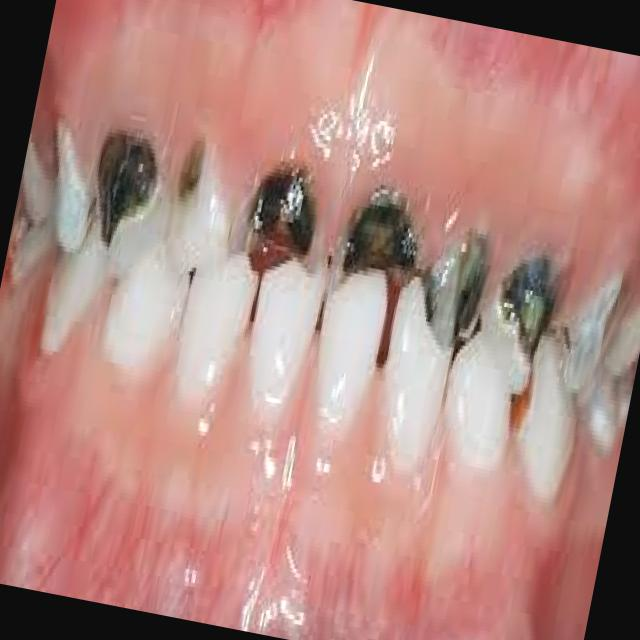caries: (227, 140, 331, 280), (81, 123, 172, 267), (334, 168, 432, 299), (414, 210, 502, 352), (490, 236, 566, 368)
